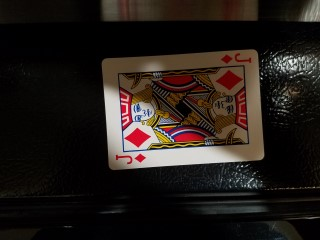JackOfDiamonds: (102, 46, 266, 172)
